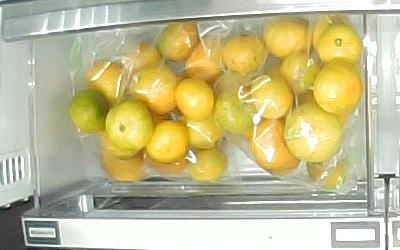tangerine: (313, 63, 363, 115), (105, 102, 153, 150), (316, 24, 360, 66), (148, 121, 190, 164), (69, 91, 108, 133), (175, 78, 214, 120)
tangerine_vinyl: (285, 103, 339, 161), (250, 118, 302, 172), (128, 65, 177, 114), (214, 85, 257, 136), (250, 73, 293, 119), (265, 17, 310, 59), (222, 34, 268, 75), (85, 60, 127, 100), (157, 20, 199, 60), (100, 146, 146, 182), (185, 39, 224, 80), (281, 54, 320, 95), (187, 149, 229, 182), (185, 117, 224, 150), (309, 156, 345, 190), (120, 41, 161, 70)
